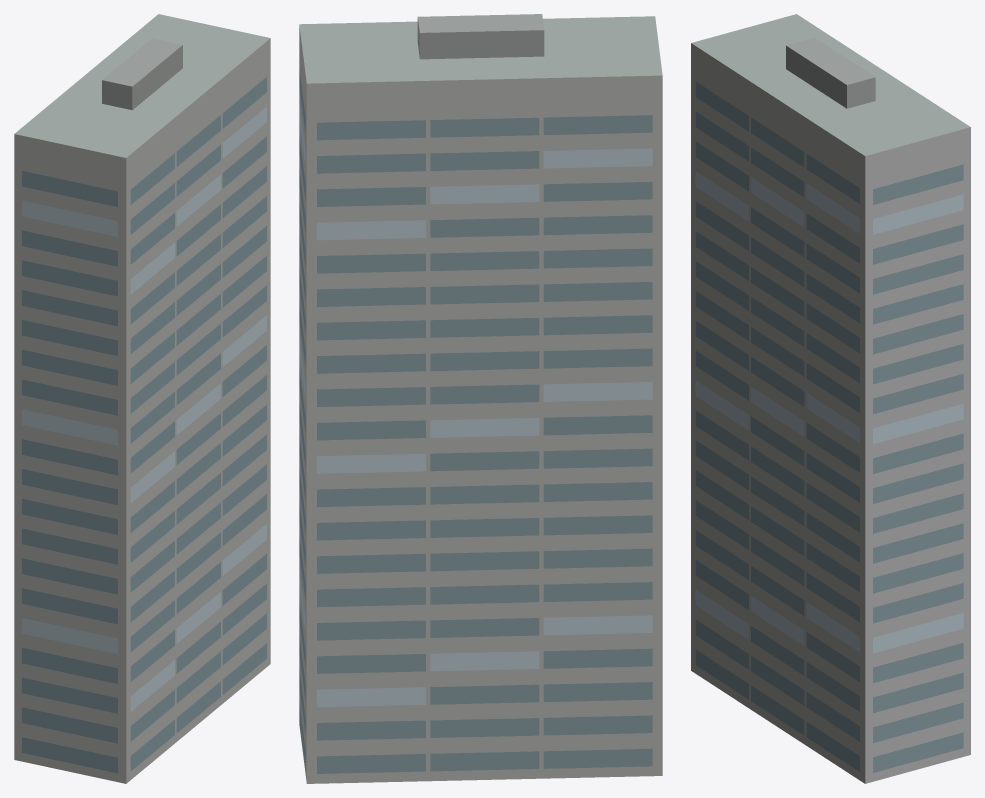
The model's file is fallback-jamsil-ricenz-234.glb.
3 renders of one model, left to right at view 1: azimuth 30°, elevation 25°; view 2: azimuth 150°, elevation 25°; view 3: azimuth 270°, elevation 25°, orthographic. The views are drawn at different scales.
Parts seen in each view (by area): view 1: fallback-jamsil-ricenz-234; view 2: fallback-jamsil-ricenz-234; view 3: fallback-jamsil-ricenz-234.
Boxes of the visible parts, x1,y1,x2,y2 form: fallback-jamsil-ricenz-234: [14, 14, 270, 783]; fallback-jamsil-ricenz-234: [299, 14, 662, 783]; fallback-jamsil-ricenz-234: [691, 14, 970, 783].
Size of the model in its own units: 30.9 by 66 by 25.69.
